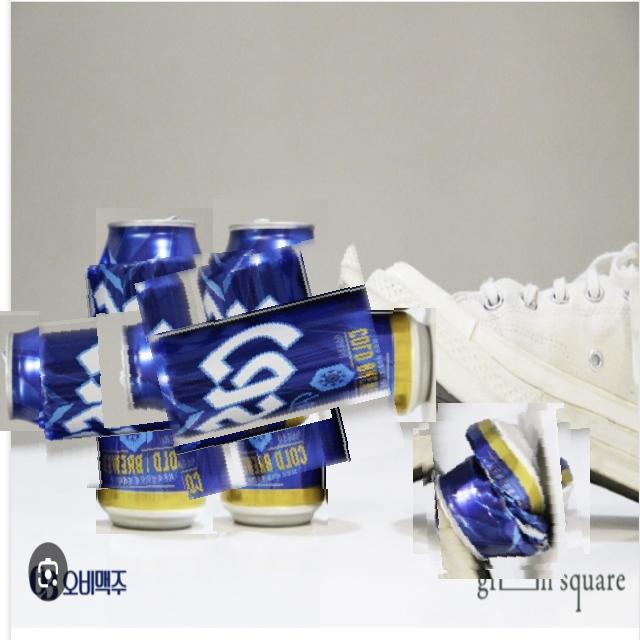recyclable: (147, 241, 394, 489), (39, 254, 274, 488), (422, 412, 581, 570)
